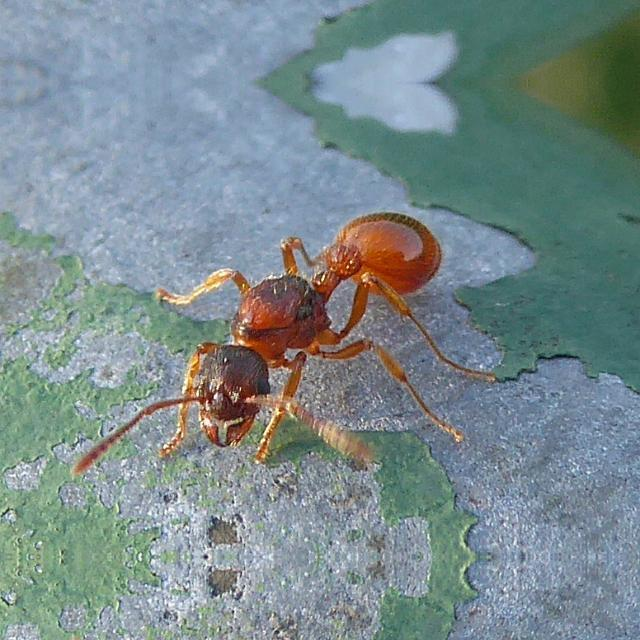Myrmica: (160, 188, 468, 470)
